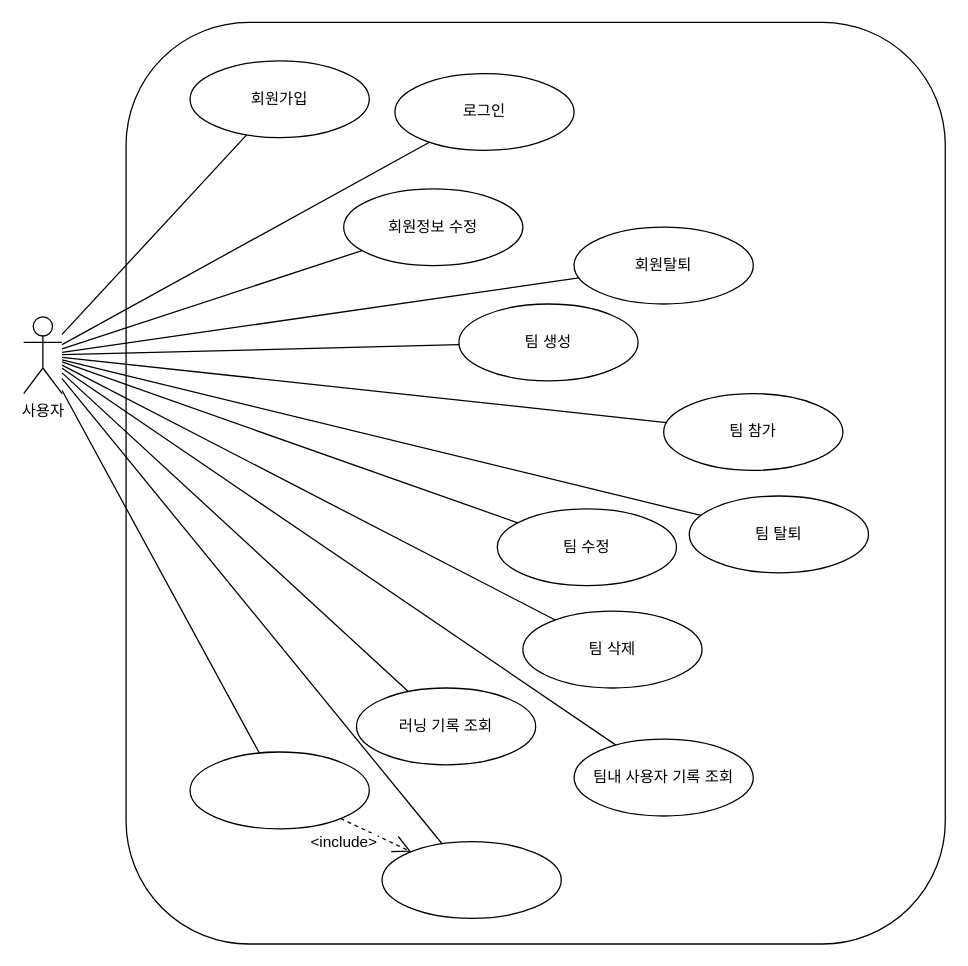
The diagram is 968 pixels wide and 966 high, and some of its shapes have lost their labels. The box of each missing label's shape, as (x1, y1, x2, y2) in pixels:
러닝시작: (189, 751, 369, 829)
러닝종료: (381, 840, 561, 918)
